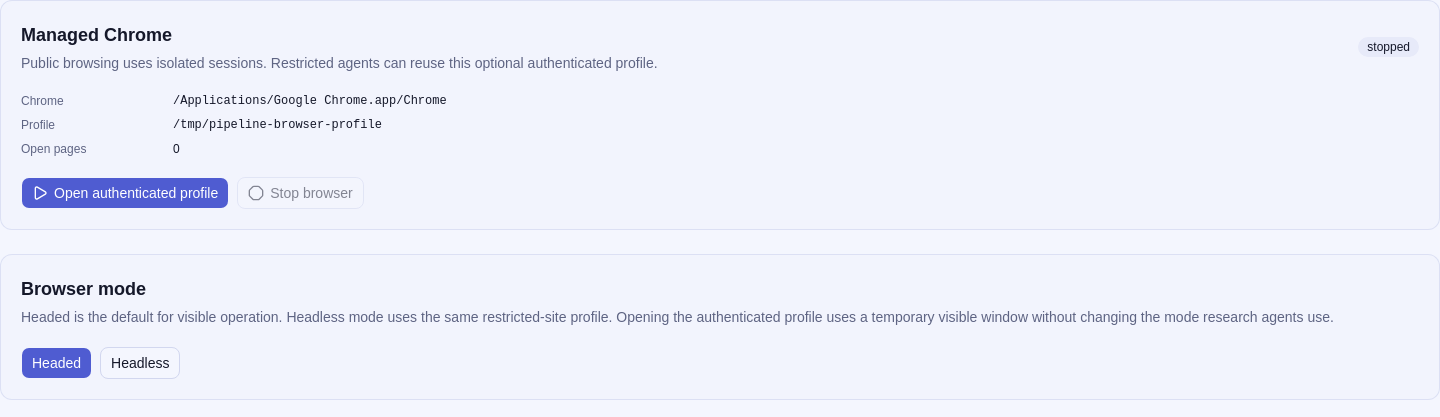
Test case: loads managed Chrome status and persists explicit browser controls
This screenshot has width=1440, height=417.
Expected: the text "/tmp/pipeline-browser-profile" is shown, [173,118,382,132]
Expected: the text "stopped" is shown, [1358,37,1419,57]
Click the button "Headless" at (140, 363), box [100,347,180,379]
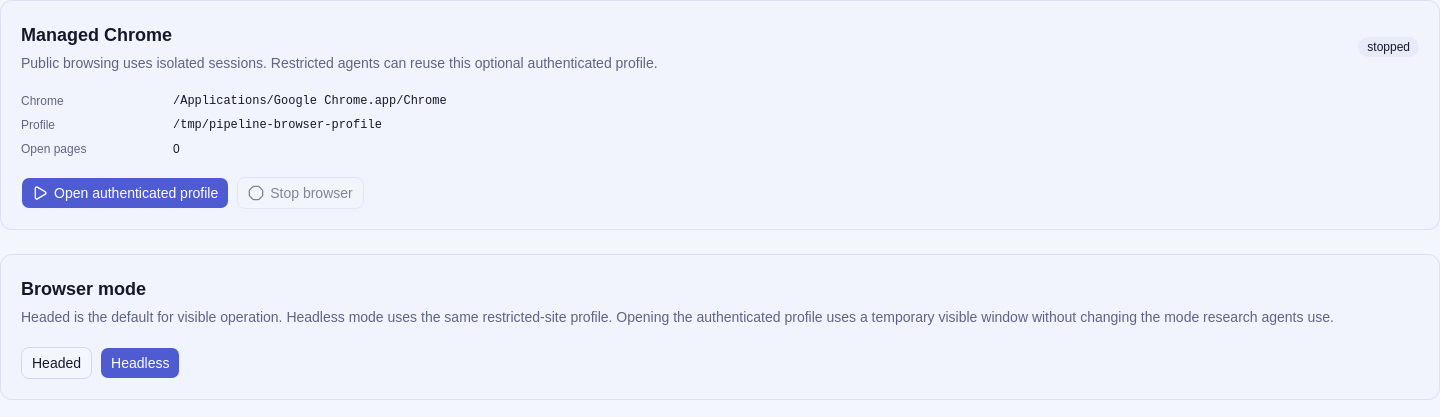
Click the button "Open authenticated profile" at (125, 193), box [21,177,229,209]
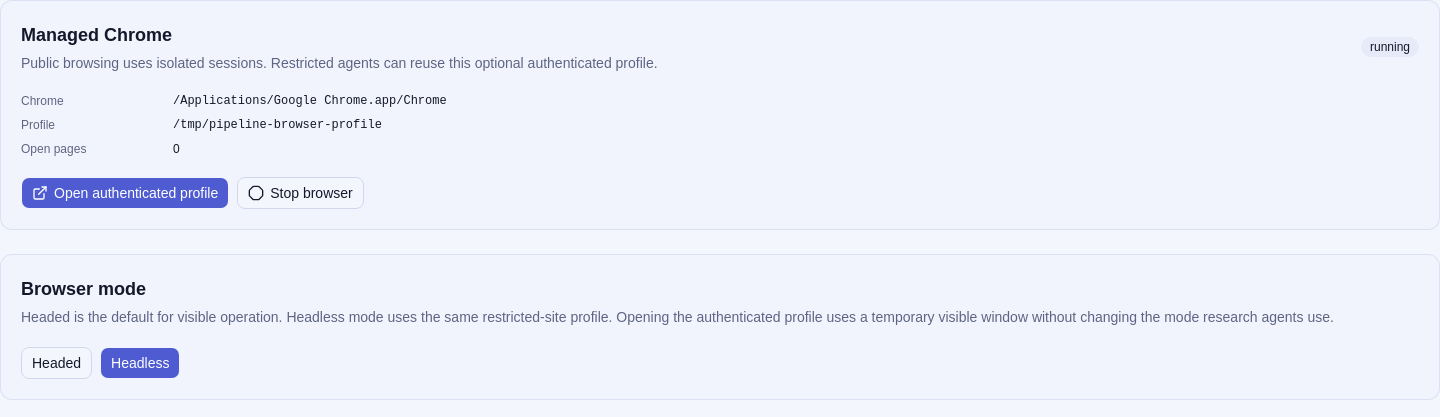
Expected: the icon "running" is shown, [1361,37,1419,57]
Expected: the button "Stop browser" is enabled, [237,177,364,209]
